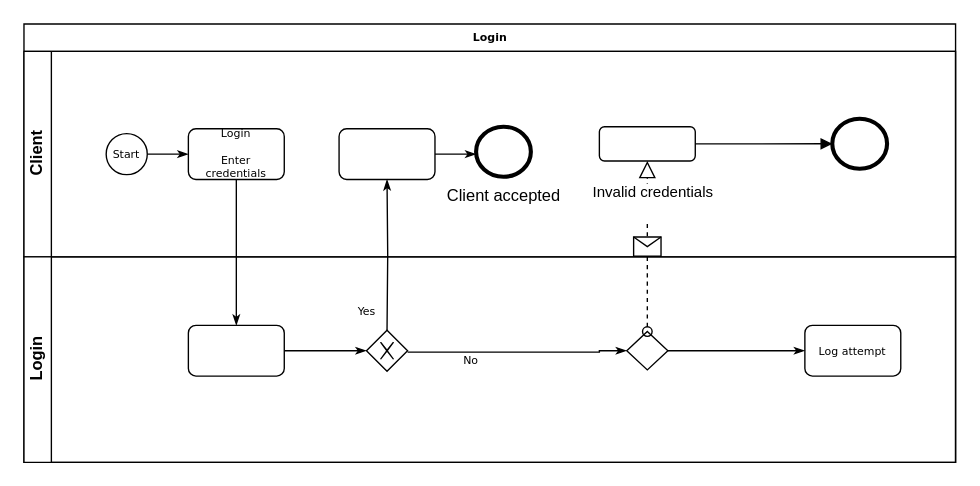
Some shapes in this 980 by 486 pixel diagram are drawn without their labels. Here are the shapes that lost their labels. From the top down, the box of each, then its label:
(338, 127, 435, 179): Token
(598, 125, 695, 161): Error message
(831, 117, 887, 169): Client refused
(187, 324, 284, 376): Valid Credentials
